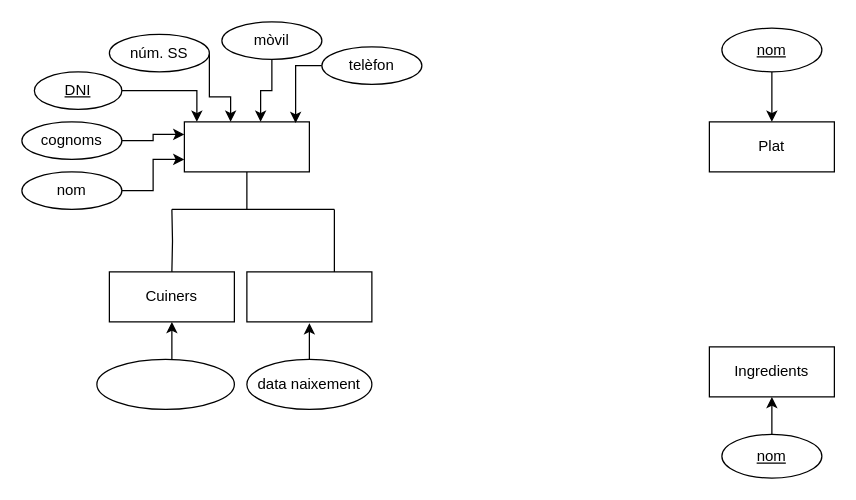
This 856x500 diagram has some shape labels left out. The box of each missing label's shape, as (x1, y1, x2, y2) in pixels:
anys de servei en empresa: (96, 358, 234, 409)
Empleat: (183, 121, 309, 172)
Pinches: (246, 271, 372, 322)
